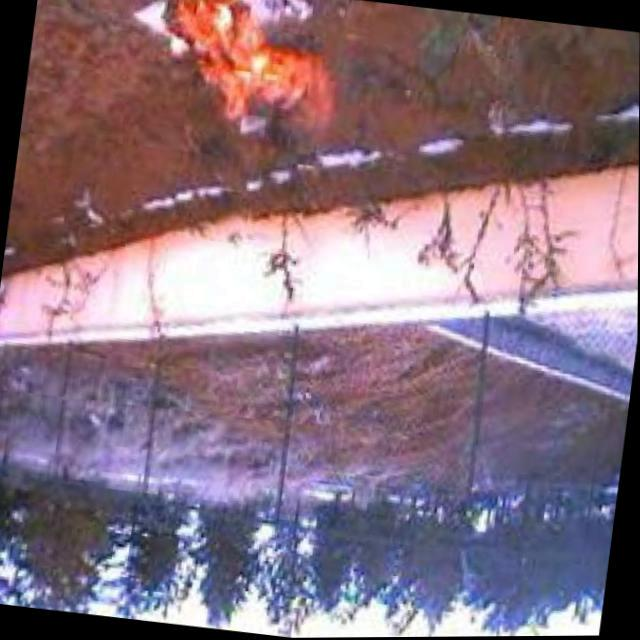fire: (137, 0, 356, 150)
